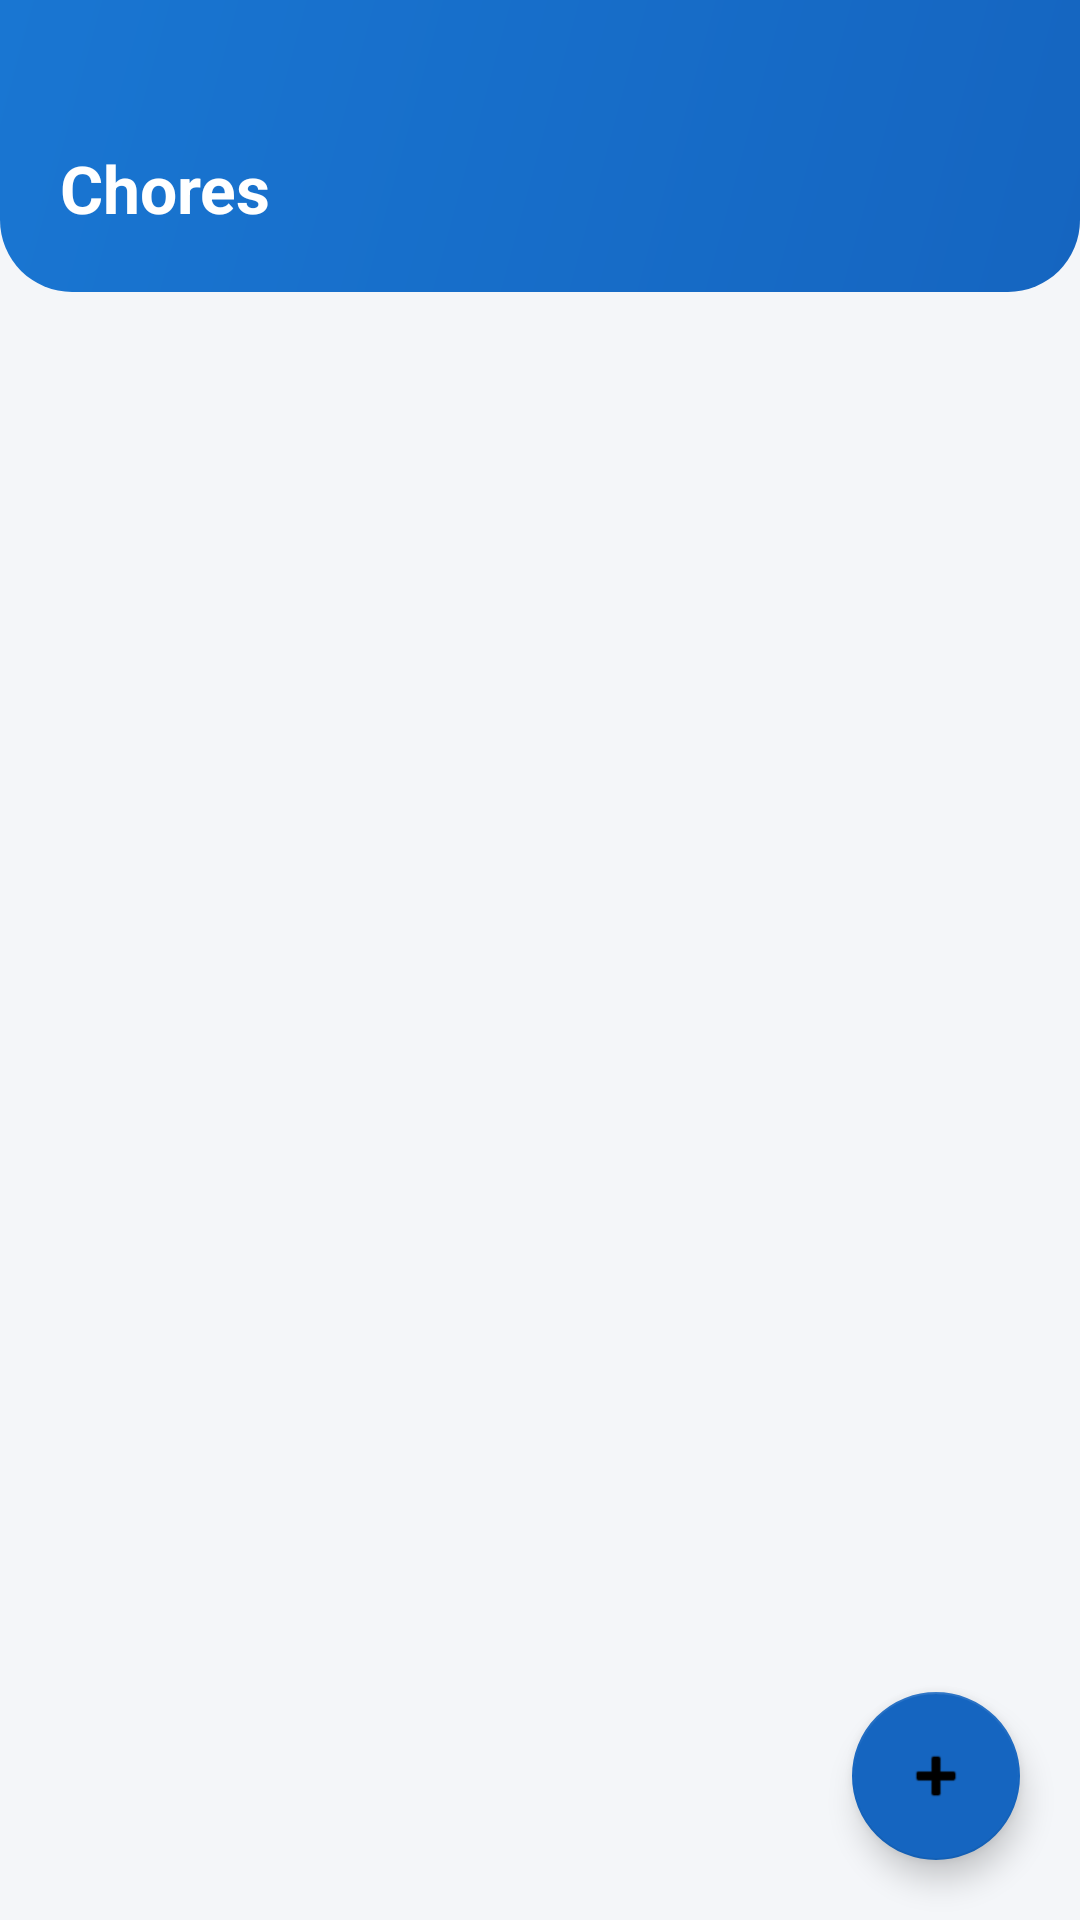

Locate icon controls on the screen. Image size 1080×1920, boxes as (x1, y1, x2, y2).
Add Chore: (852, 1692, 1020, 1860)
